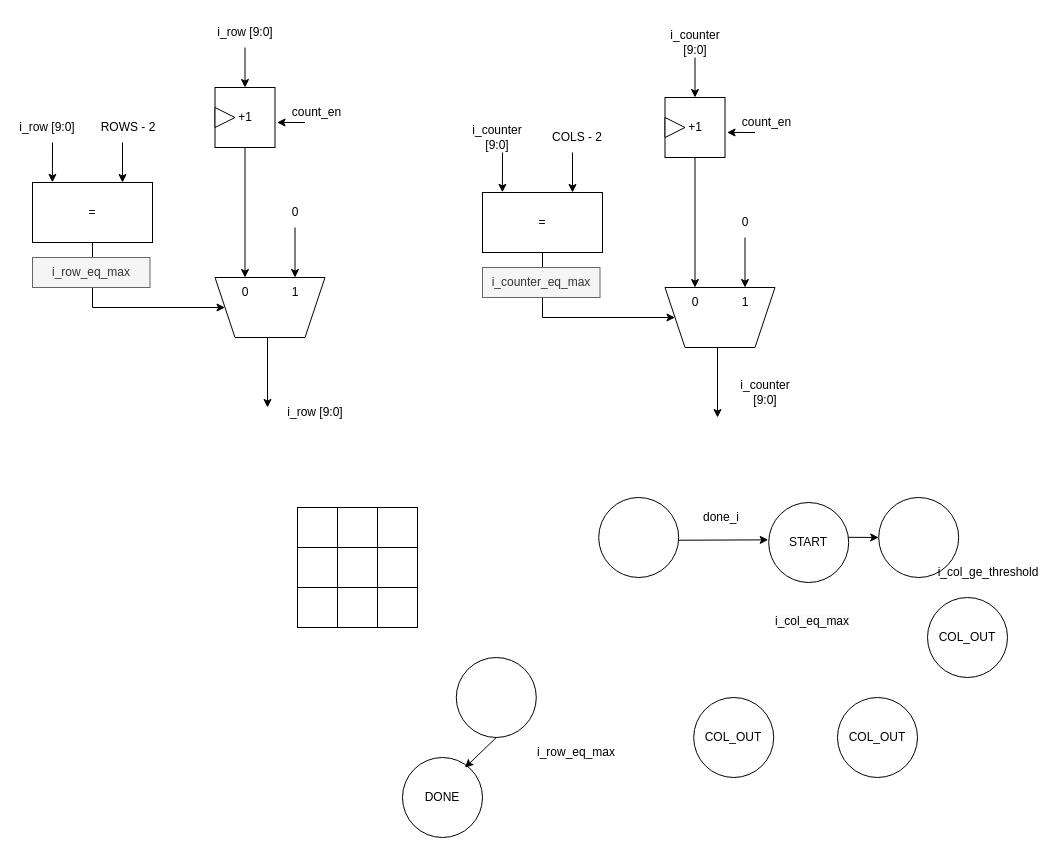
Image size: 1056x855. Some labels were removed from this diagram. The shapes that lost their labels are listed below. From the top down, each one's centre as x and y in pixels, then its label:
At point (638, 537): "IDLE".
At point (918, 537): "START_COL".
At point (495, 697): "FINISH_ALL".
